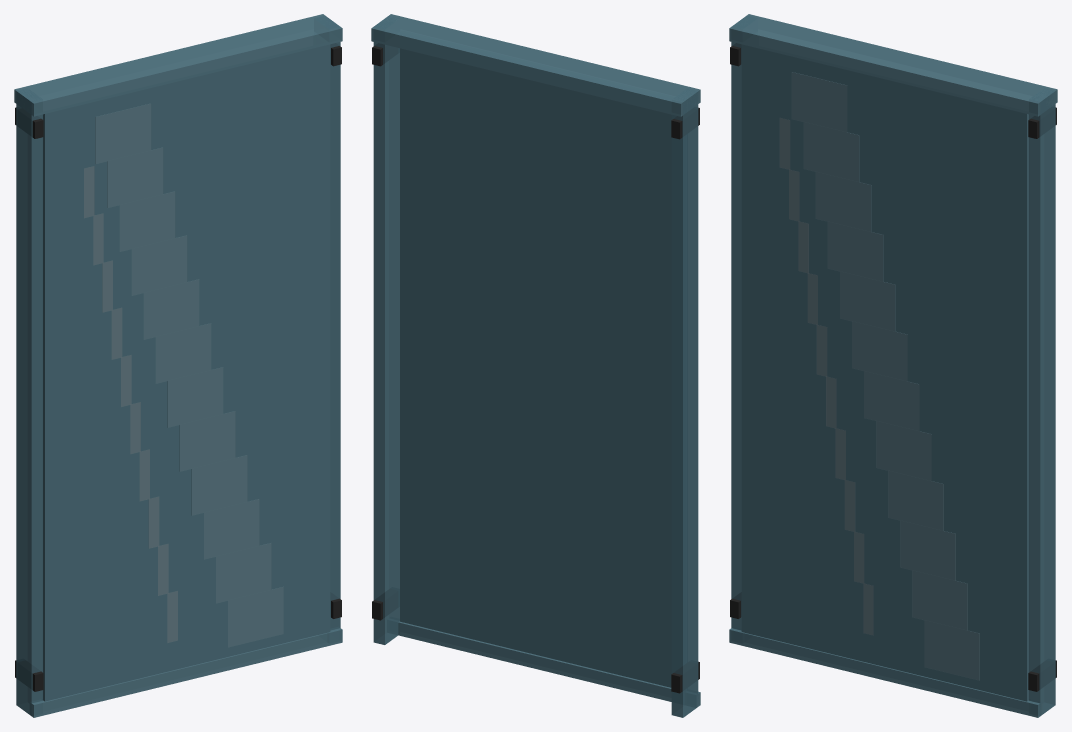
File: CMU3DBlueTintedDirectionalWindow.glb
3 renders of one model, left to right at view 1: azimuth 30°, elevation 25°; view 2: azimuth 150°, elevation 25°; view 3: azimuth 330°, elevation 25°, orthographic.
Visible parts, largest first — view 1: blue source glass, diagonal pale glass band (×12), slim blue window jamb (×2), thin blue glazing rail (×2), second diagonal reflection (×10), dark corner clamp (×2); view 2: blue source glass, slim blue window jamb (×2), thin blue glazing rail (×2), dark corner clamp (×3); view 3: blue source glass, diagonal pale glass band (×12), slim blue window jamb (×2), thin blue glazing rail (×2), second diagonal reflection (×10), dark corner clamp (×2).
Part boxes in pixels (left/top/right/bottom): blue source glass: left=43, top=44, right=330, bottom=701; diagonal pale glass band (×12): left=95, top=103, right=283, bottom=647; slim blue window jamb (×2): left=16, top=15, right=340, bottom=714; thin blue glazing rail (×2): left=14, top=14, right=342, bottom=717; second diagonal reflection (×10): left=84, top=166, right=177, bottom=642; dark corner clamp (×2): left=15, top=107, right=43, bottom=691; blue source glass: left=400, top=48, right=671, bottom=687; slim blue window jamb (×2): left=373, top=16, right=698, bottom=717; thin blue glazing rail (×2): left=371, top=14, right=700, bottom=707; dark corner clamp (×3): left=372, top=107, right=699, bottom=693; blue source glass: left=741, top=44, right=1028, bottom=701; diagonal pale glass band (×12): left=791, top=72, right=979, bottom=680; slim blue window jamb (×2): left=731, top=15, right=1055, bottom=715; thin blue glazing rail (×2): left=729, top=14, right=1057, bottom=717; second diagonal reflection (×10): left=779, top=118, right=873, bottom=635; dark corner clamp (×2): left=1028, top=107, right=1056, bottom=691.
Bounding box in the file's own units: 1 × 1.9 × 0.112.
